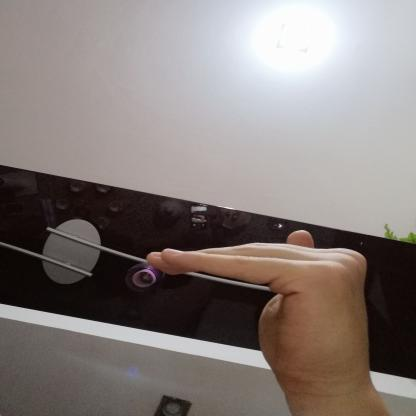KHAA: (126, 218, 392, 396)
